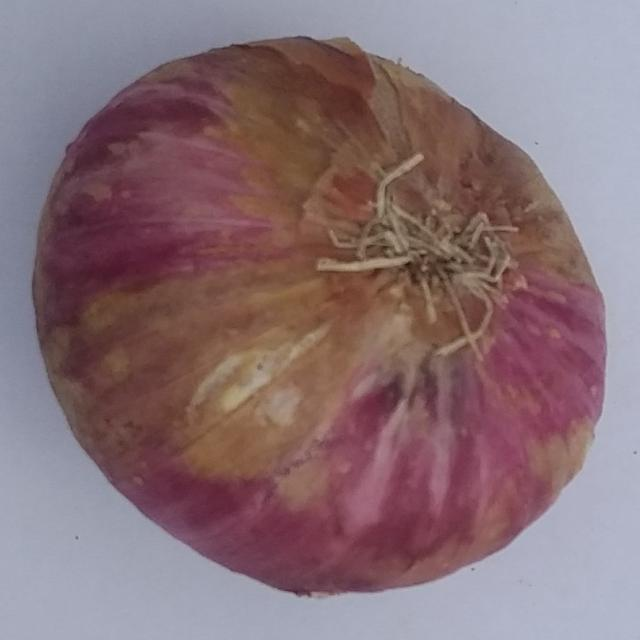onion: (32, 35, 607, 599)
